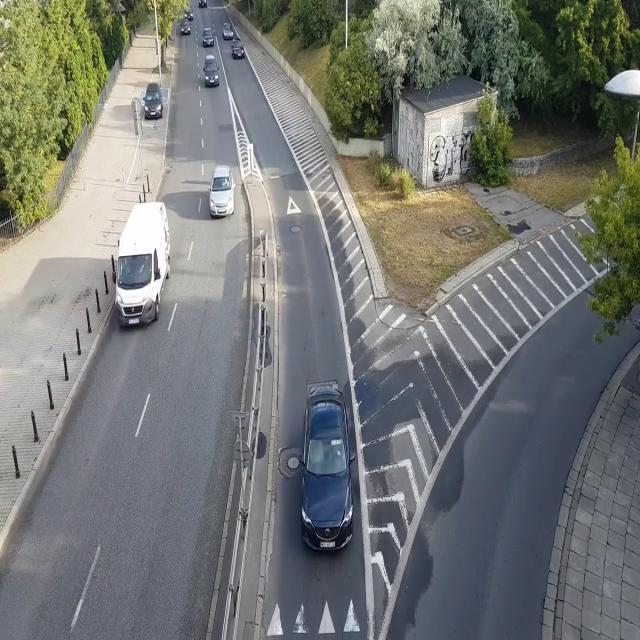car: (297, 379, 357, 554), (208, 164, 235, 218), (142, 82, 164, 119), (203, 54, 220, 88), (201, 26, 215, 48), (231, 37, 244, 57), (222, 22, 234, 40), (180, 19, 191, 35), (184, 6, 193, 22), (198, 0, 207, 8)
van: (112, 201, 172, 332)
